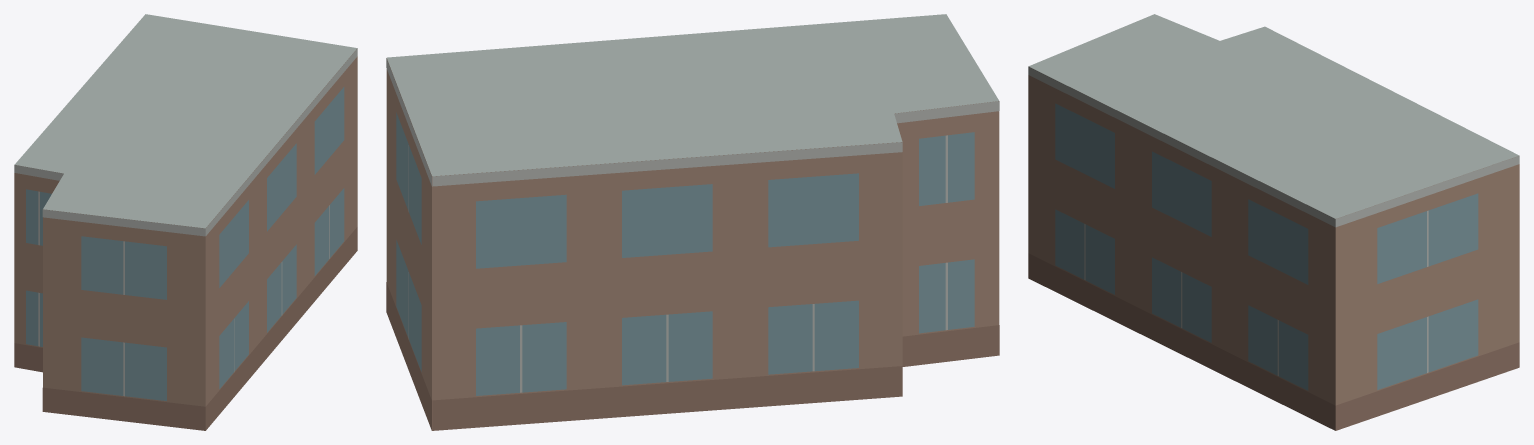
File: survey-upis-32771640.glb
3 renders of one model, left to right at view 1: azimuth 30°, elevation 25°; view 2: azimuth 150°, elevation 25°; view 3: azimuth 270°, elevation 25°, orthographic. The views are drawn at different scales.
Parts seen in each view (by area): view 1: survey-upis-32771640.tmp; view 2: survey-upis-32771640.tmp; view 3: survey-upis-32771640.tmp.
Part boxes in pixels (left/top/right/bottom): survey-upis-32771640.tmp: left=14, top=14, right=357, bottom=430; survey-upis-32771640.tmp: left=386, top=14, right=999, bottom=430; survey-upis-32771640.tmp: left=1028, top=14, right=1519, bottom=430.
Bounding box in the file's own units: 12.66 × 6.1 × 12.82.
